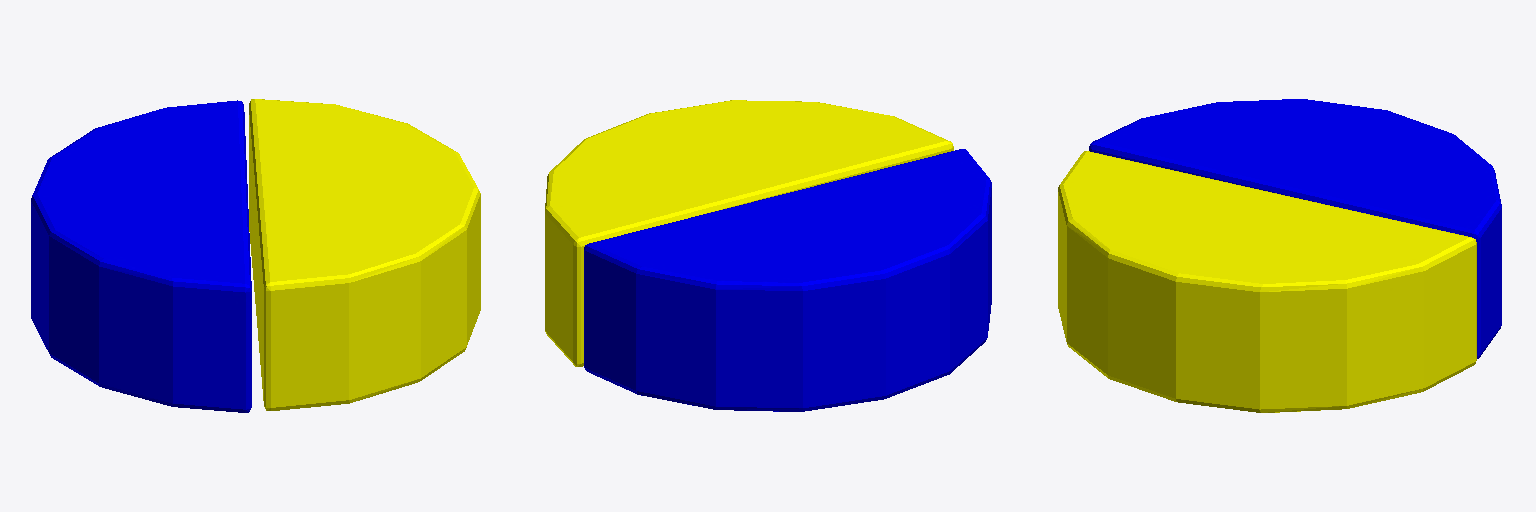
3 renders of one model, left to right at view 1: azimuth 30°, elevation 25°; view 2: azimuth 150°, elevation 25°; view 3: azimuth 270°, elevation 25°, orthographic.
Visible parts, largest first — view 1: briks.006; view 2: briks.006; view 3: briks.006.
Boxes of the visible parts, x1=… form: briks.006: x1=31, y1=99, x2=480, y2=412; briks.006: x1=545, y1=100, x2=991, y2=411; briks.006: x1=1058, y1=99, x2=1501, y2=412.
Size of the model in its own units: 2.34 by 0.7417 by 2.31.
Materials: 2 (1 with a texture image).